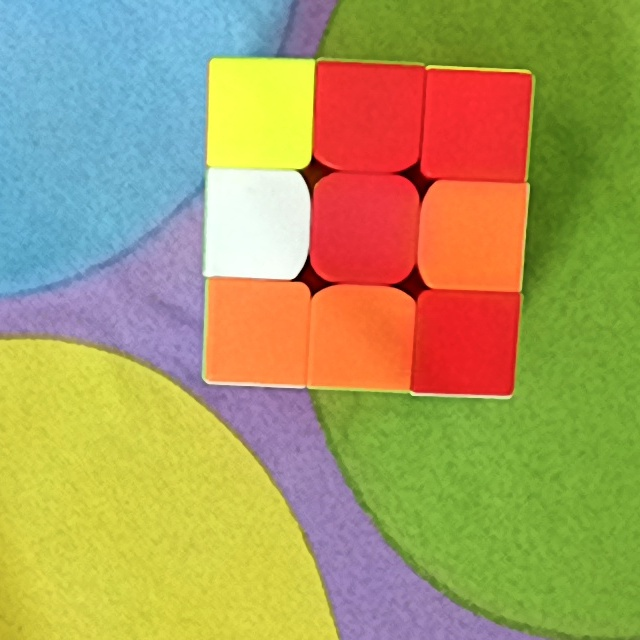tile: (434, 75, 521, 175), (217, 65, 305, 161), (210, 176, 302, 267), (323, 68, 412, 162), (213, 286, 300, 378), (433, 190, 519, 283), (425, 297, 508, 392), (323, 184, 407, 274), (320, 297, 401, 384)
